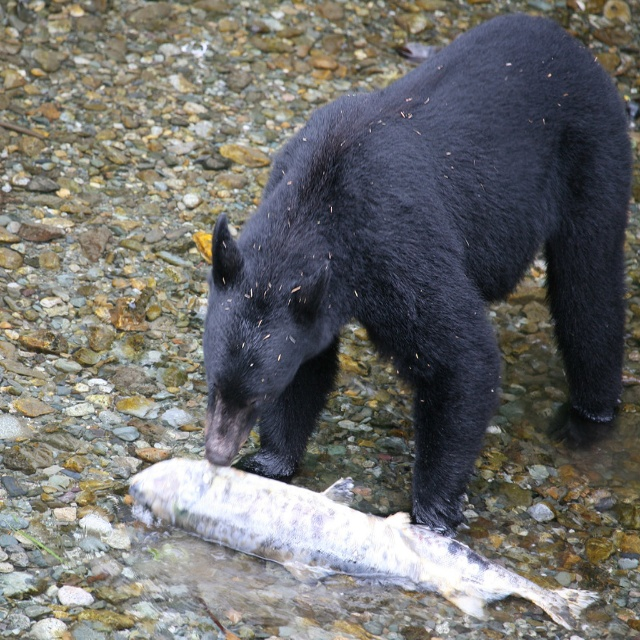Bear: (201, 11, 634, 540)
